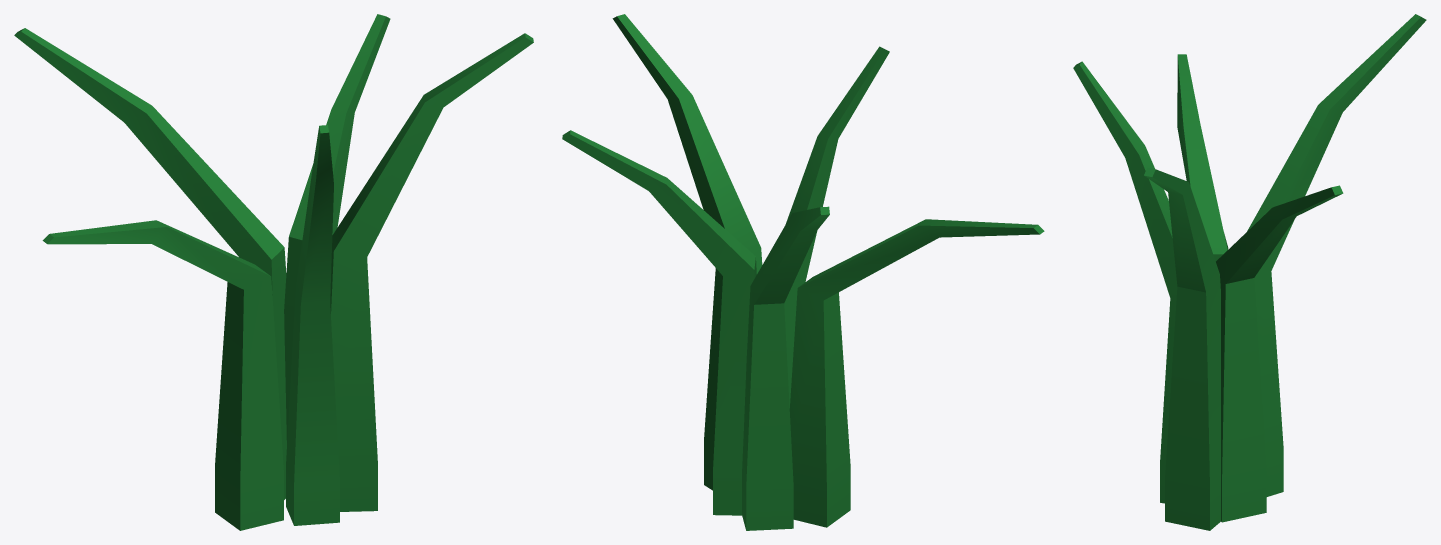
The model's file is grass_03.fbx.
The picture shows the model from 3 angles, left to right: view 1: azimuth 30°, elevation 25°; view 2: azimuth 150°, elevation 25°; view 3: azimuth 270°, elevation 25°; orthographic projection. The views are drawn at different scales.
Visible parts, largest first — view 1: grass_03; view 2: grass_03; view 3: grass_03.
Boxes of the visible parts, x1,y1,x2,y2 form: grass_03: [14, 14, 533, 530]; grass_03: [562, 14, 1044, 530]; grass_03: [1073, 14, 1426, 530].
Bounding box in the file's own units: 52.78 × 47.71 × 36.67.
